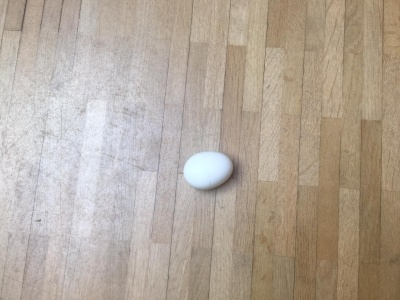egg: (183, 150, 234, 190)
